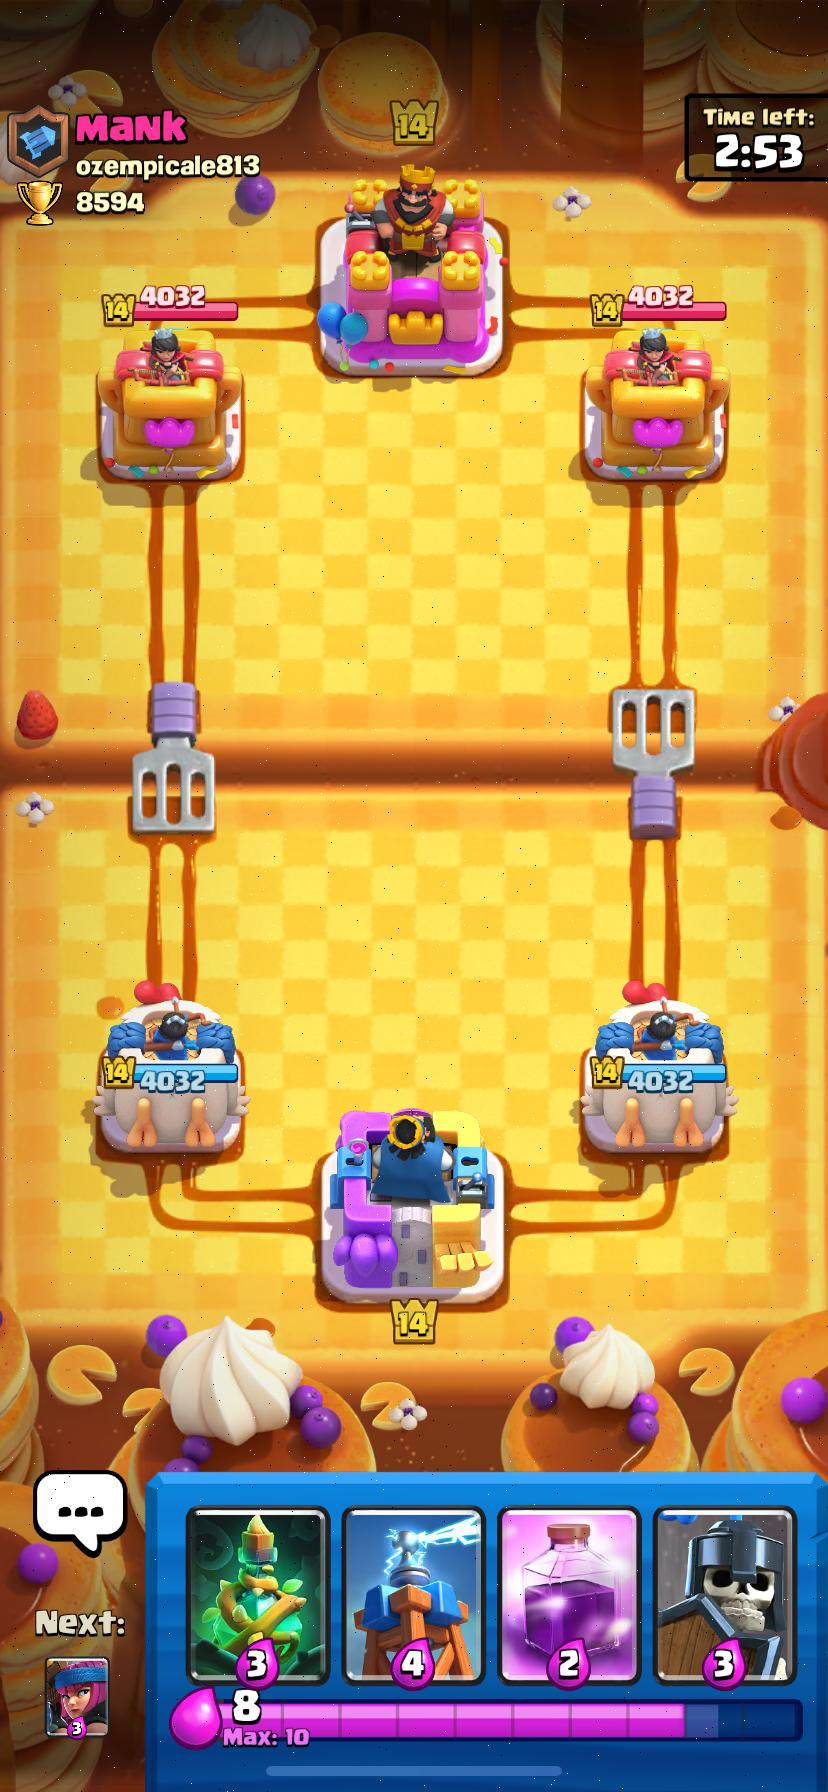EKingTower: (316, 167, 503, 377)
EnemyPrincessTower: (97, 326, 242, 480), (582, 329, 729, 481)
OwnKingTower: (321, 1109, 503, 1303)
OwnPrincessTower: (580, 982, 737, 1154), (93, 983, 248, 1152)
